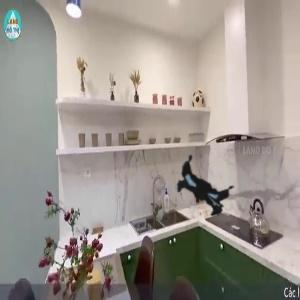drone: (115, 101, 296, 282)
